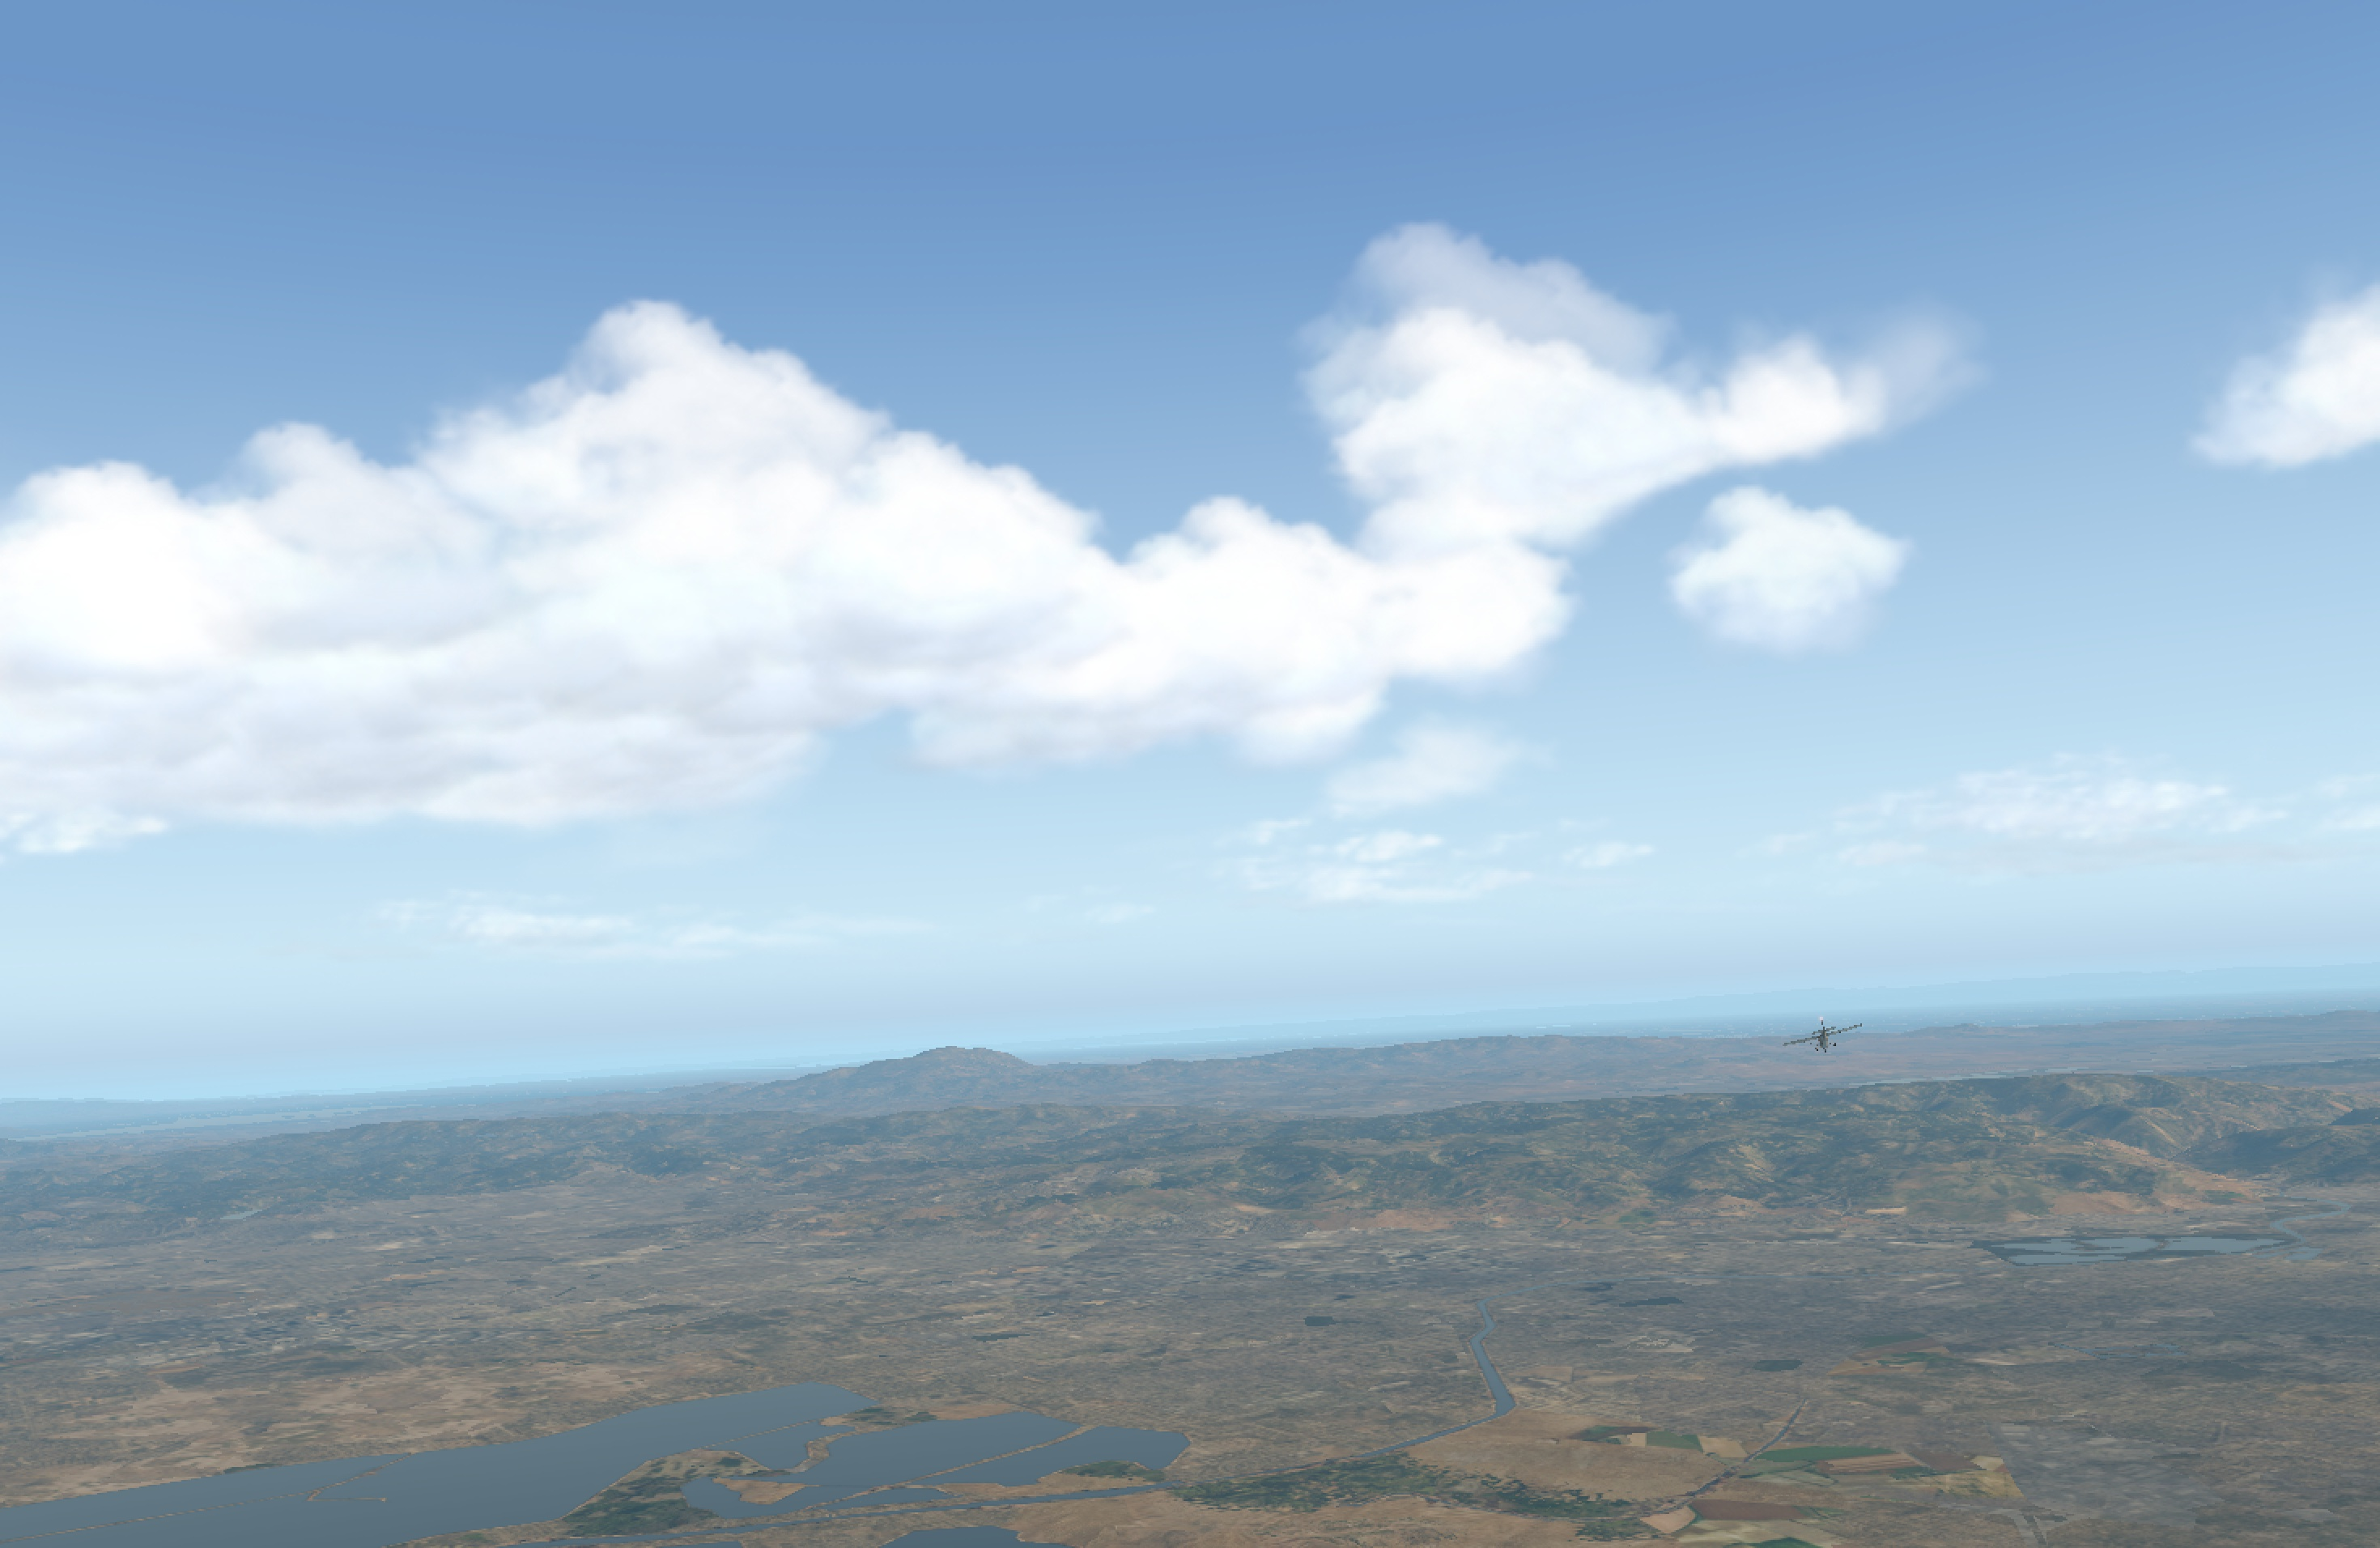aircraft: (1795, 1031, 1851, 1050)
